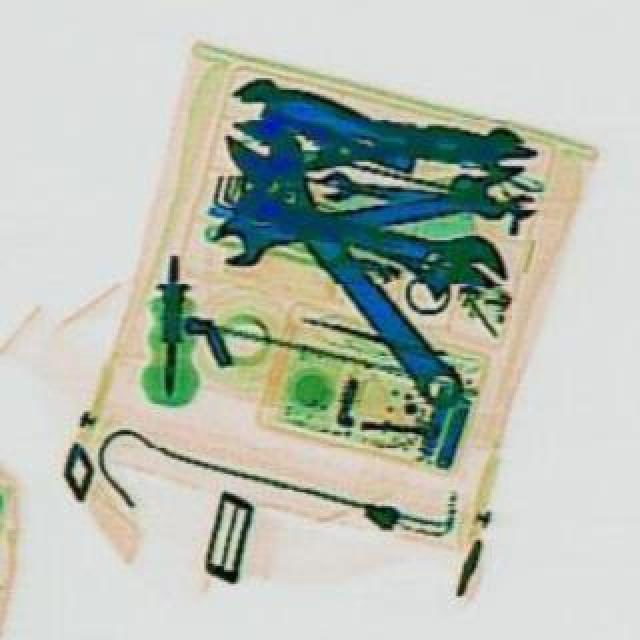scissors: (214, 110, 482, 426), (228, 178, 516, 306), (206, 174, 516, 280)
